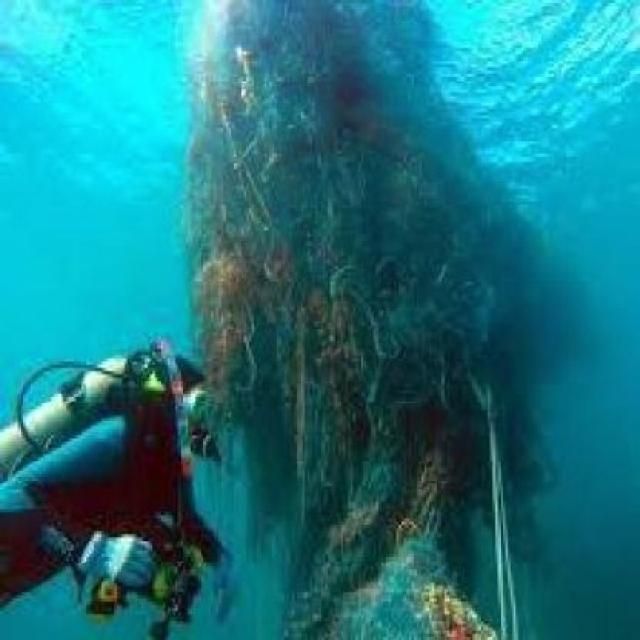net: (186, 3, 523, 583)
